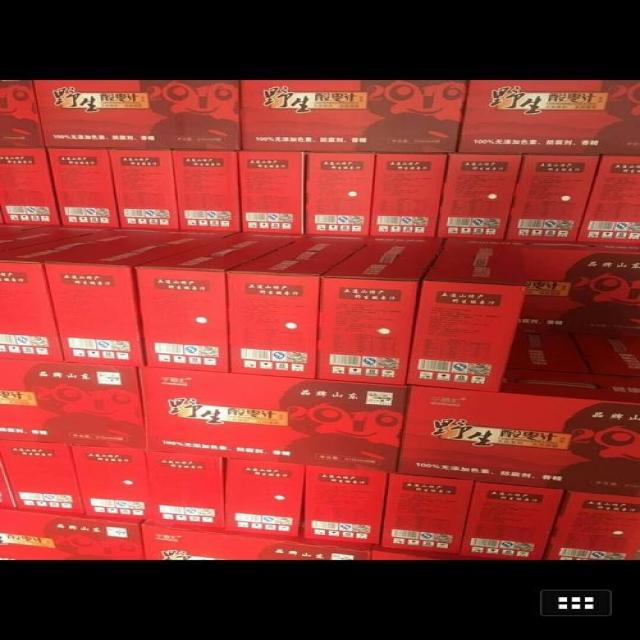box: (394, 369, 640, 497), (138, 367, 408, 472), (41, 229, 238, 367), (131, 230, 306, 374), (0, 225, 157, 363), (229, 236, 370, 380), (317, 237, 444, 387), (407, 239, 527, 392), (241, 80, 471, 151), (36, 79, 242, 150), (456, 79, 640, 154), (1, 359, 143, 449), (521, 243, 640, 328), (142, 520, 376, 562), (500, 154, 604, 244), (458, 482, 566, 562), (302, 464, 396, 546), (383, 472, 476, 554), (438, 150, 521, 241), (0, 510, 142, 563), (539, 490, 640, 563), (371, 153, 451, 238), (145, 449, 228, 528), (225, 458, 306, 538), (0, 441, 84, 517), (576, 154, 640, 248), (305, 153, 375, 238), (47, 147, 120, 227), (239, 151, 306, 237), (170, 149, 241, 230), (113, 147, 182, 230), (72, 446, 147, 518), (0, 148, 63, 225), (508, 321, 591, 373), (567, 326, 640, 375), (0, 79, 47, 150)
